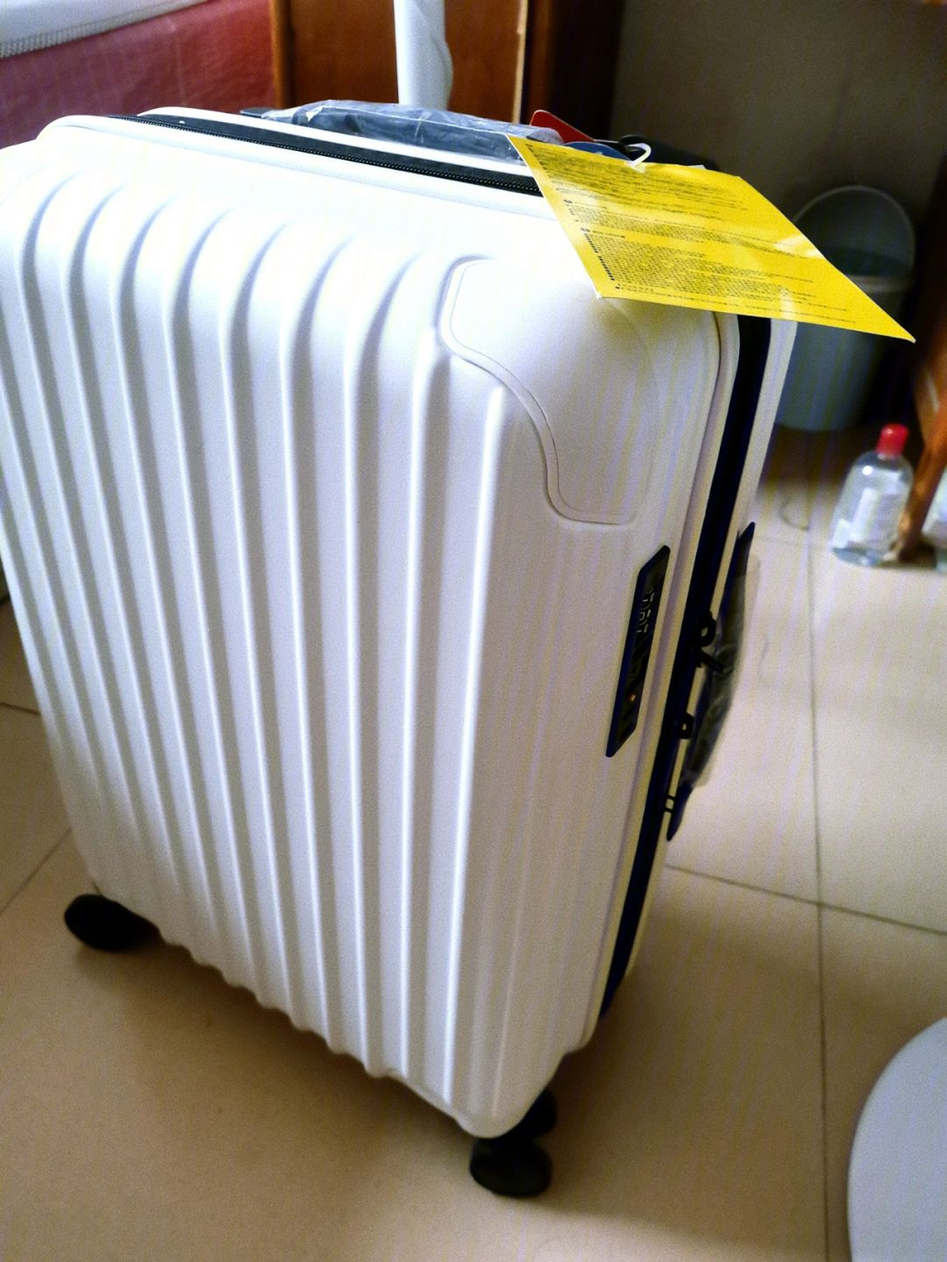box: (1, 103, 799, 1137)
handle: (238, 99, 561, 167)
lock: (605, 545, 672, 758)
wheel: (469, 1087, 560, 1198), (62, 893, 161, 952)
